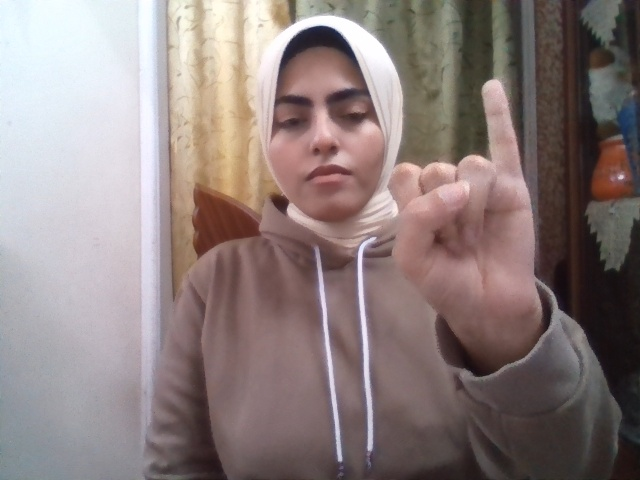I: (388, 80, 540, 333)
